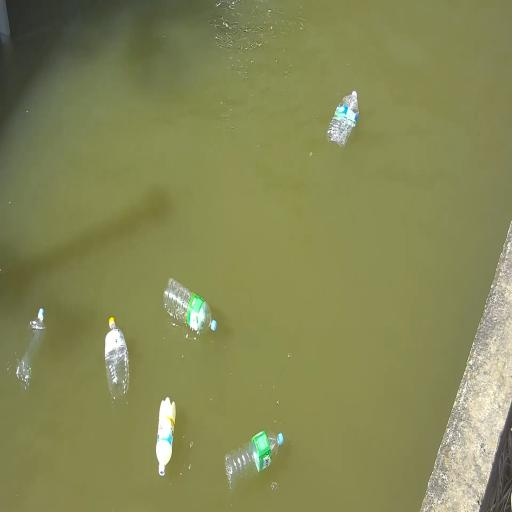plastic: (226, 431, 283, 490), (164, 278, 216, 333), (16, 309, 45, 388), (105, 317, 129, 398), (327, 91, 358, 146), (156, 397, 175, 475)
